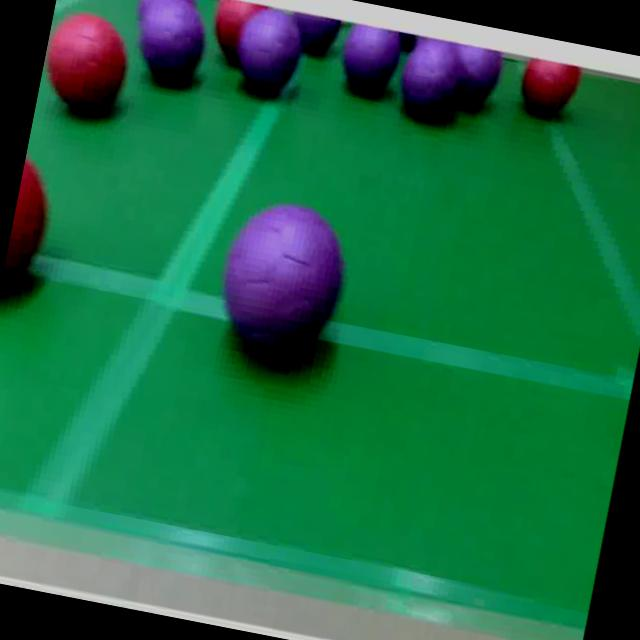purple_ball: (208, 193, 358, 372), (130, 0, 211, 93), (393, 34, 473, 128), (233, 12, 310, 102), (334, 22, 404, 102), (448, 45, 508, 118), (287, 13, 343, 58), (136, 0, 196, 23)
red_ball: (39, 8, 138, 122), (0, 154, 58, 300), (515, 56, 584, 121), (204, 0, 247, 68)
